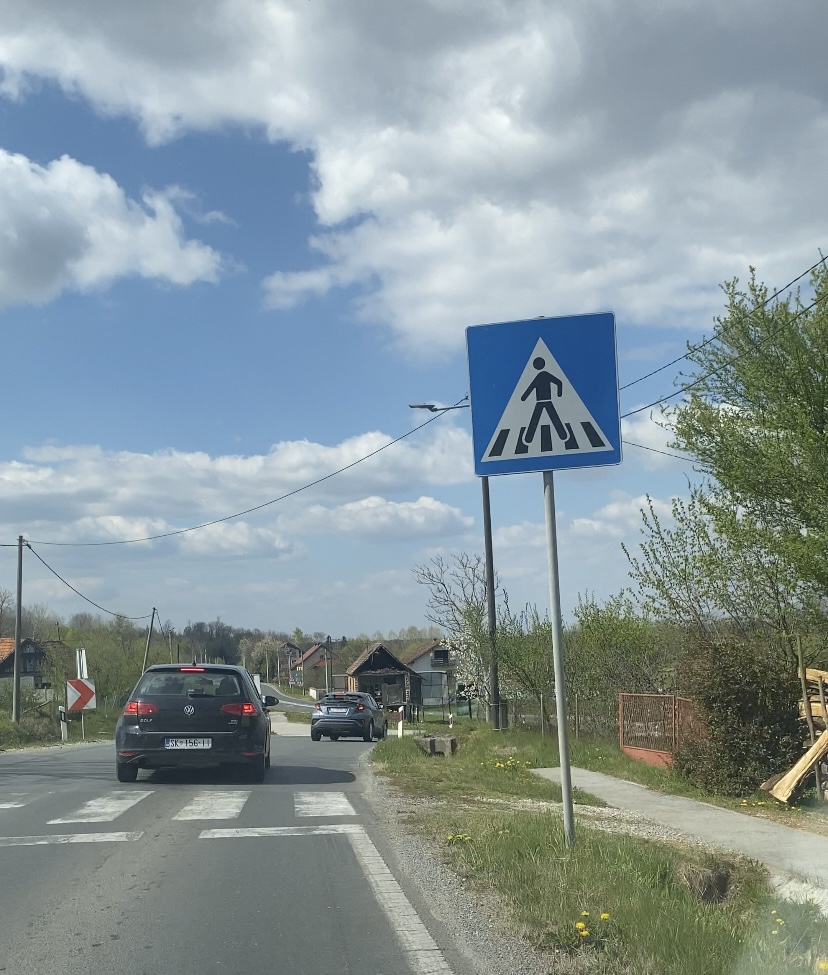Pješački prijelaz: (465, 313, 623, 477)
